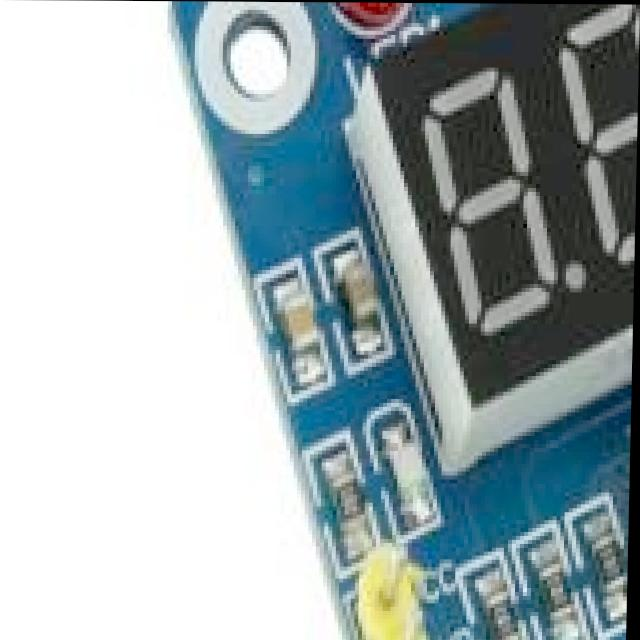IC: (624, 426, 633, 461)
LED: (383, 430, 441, 517), (320, 2, 428, 10)
capacitor: (330, 234, 386, 340), (270, 286, 331, 366)
connector: (357, 534, 491, 640)
display: (352, 3, 640, 472)
resistor: (326, 462, 390, 560), (529, 547, 587, 631), (477, 555, 530, 640), (582, 515, 631, 604)
